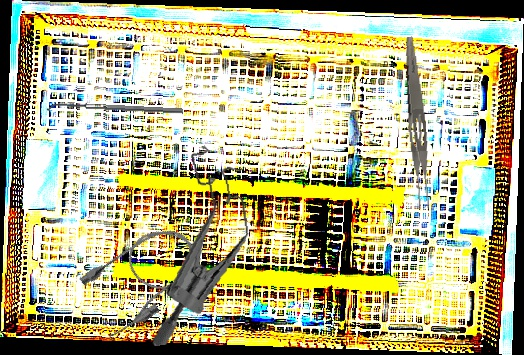Cannula: (72, 213, 213, 344)
Dressing Forceps: (397, 35, 435, 210)
Spatula Surgical: (46, 101, 184, 119)
Speculum: (125, 140, 267, 347)
